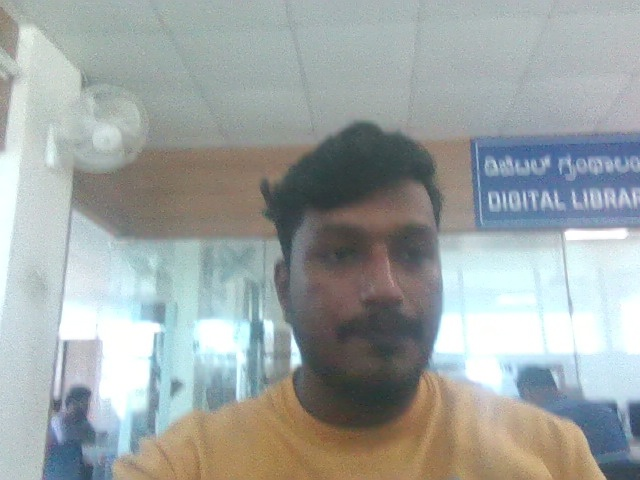real: (257, 98, 473, 404)
